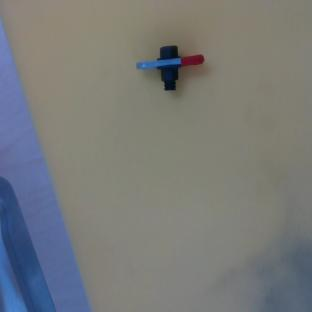part_1_good: (134, 26, 206, 98)
